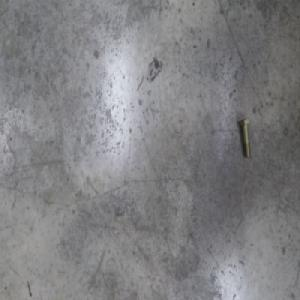Bolt: (238, 117, 251, 159)
